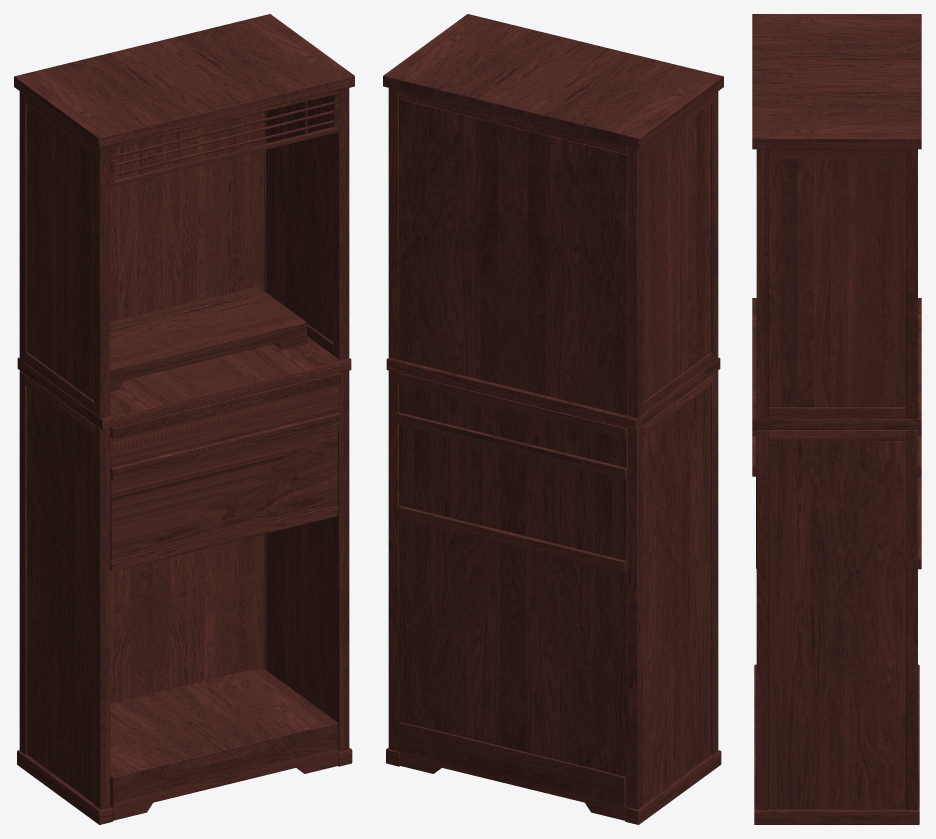
The picture shows the model from 3 angles, left to right: view 1: azimuth 30°, elevation 25°; view 2: azimuth 150°, elevation 25°; view 3: azimuth 270°, elevation 25°; orthographic projection.
Visible parts, largest first — view 1: LC-柜子; view 2: LC-柜子; view 3: LC-柜子.
Part boxes in pixels (x1,y1,x2,y2): LC-柜子: [14, 14, 354, 824]; LC-柜子: [383, 14, 723, 824]; LC-柜子: [752, 14, 921, 824].
Size of the model in its own units: 0.6478 by 0.3711 by 1.66.
